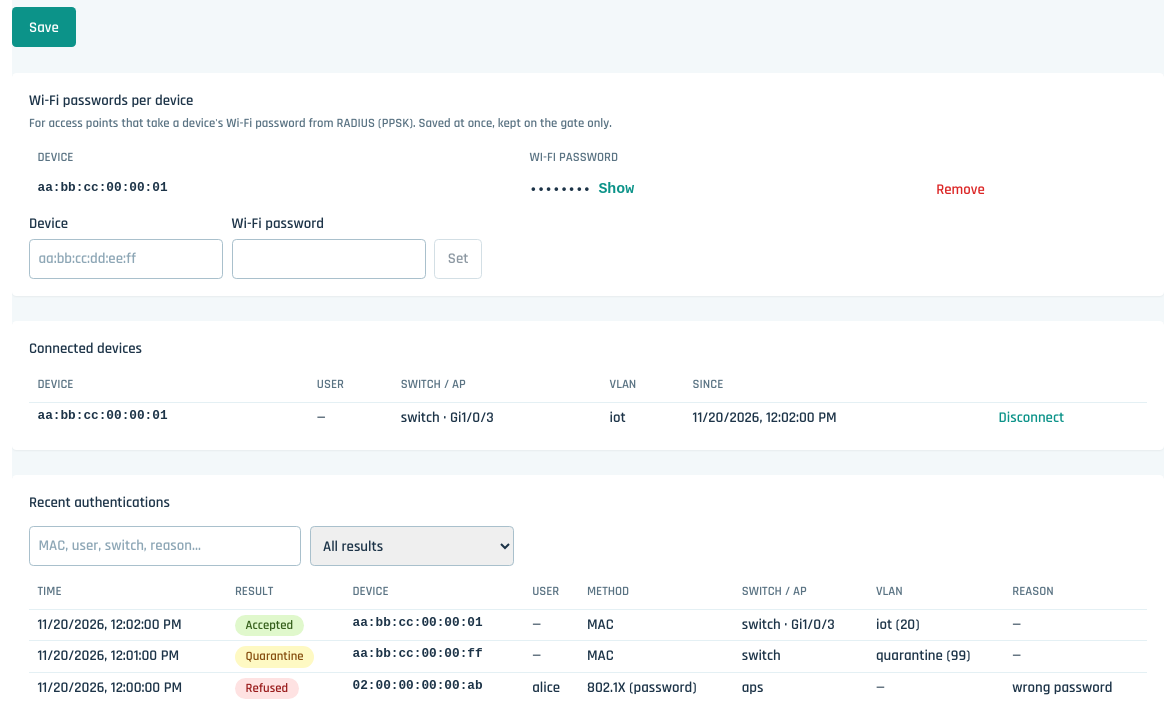
Network → RADIUS › disconnects a session
(page scrolled)
Step 1. Click the button with aria-label "Disconnect aa:bb:cc:00:00:01" → point(1031, 418), box 998,407 -> 1064,428
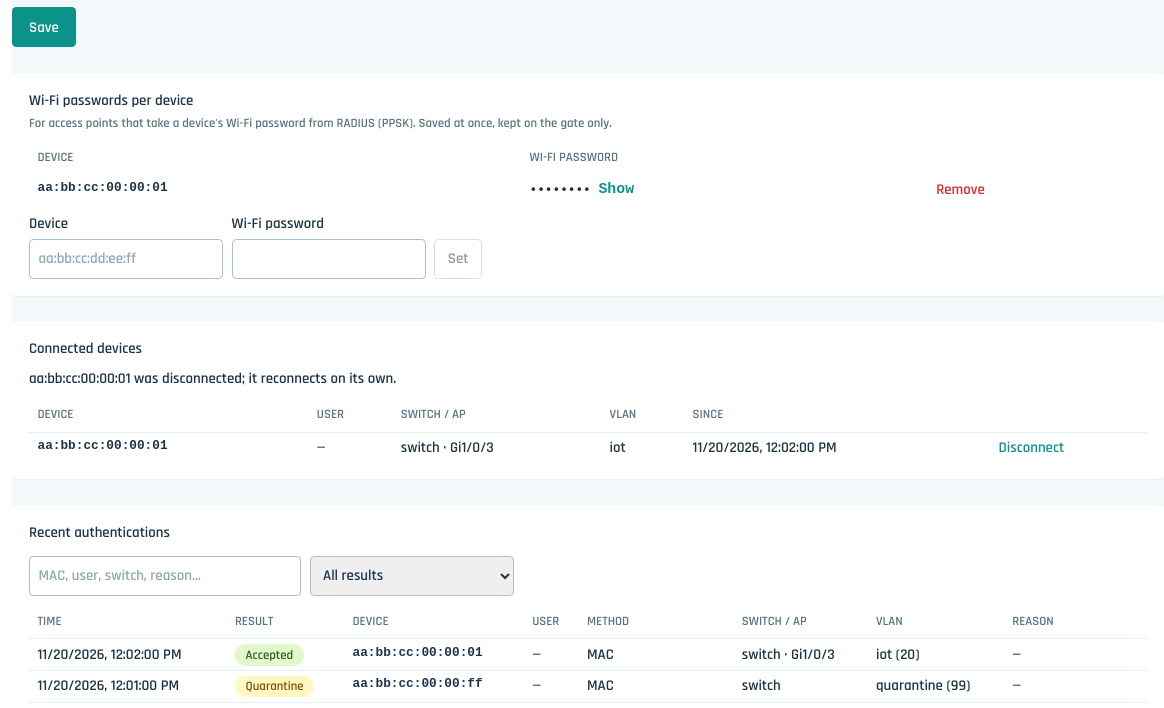
Check: the text "aa:bb:cc:00:00:01 was disconnected; it reconnects on its own." is shown, box 29,369 -> 396,388
